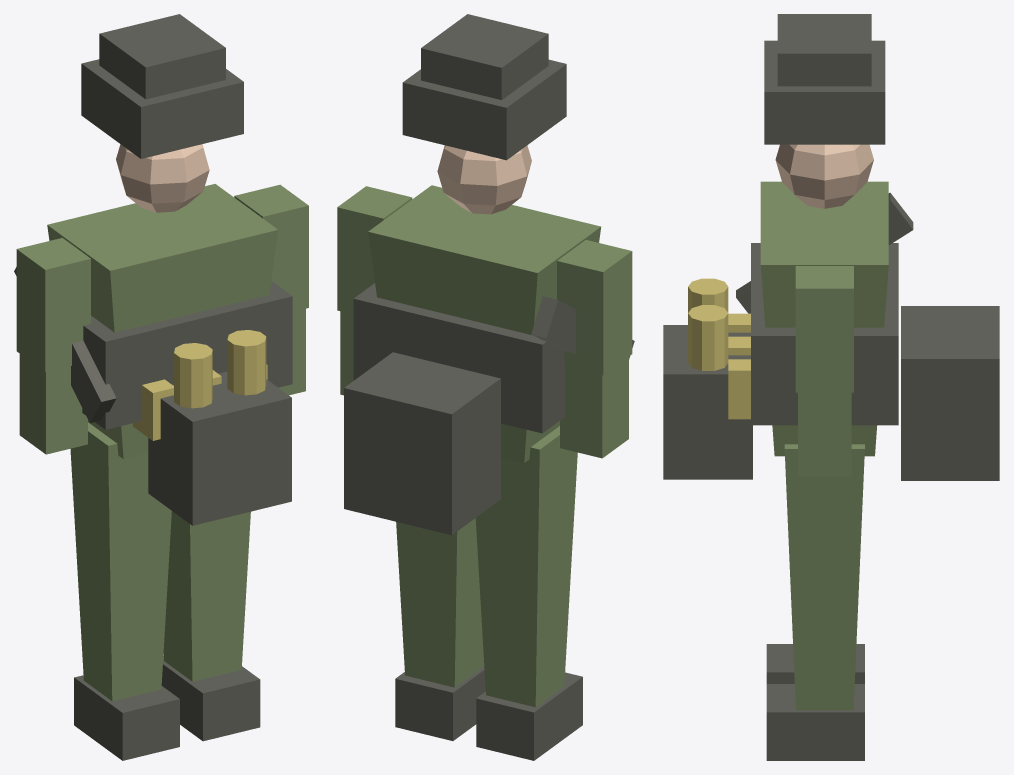
Rendered from unit_grenadier_rigged.glb.
The picture shows the model from 3 angles, left to right: view 1: azimuth 30°, elevation 25°; view 2: azimuth 150°, elevation 25°; view 3: azimuth 270°, elevation 25°; orthographic projection.
Parts seen in each view (by area): view 1: accent_torso, body_torso, body_leg-right, accent_head, body_leg-left, body_arm-right, trim_torso, accent_leg-right, accent_leg-left, body_elbow-right, skin_head, body_arm-left (+1 smaller); view 2: accent_torso, body_torso, body_leg-right, accent_head, body_leg-left, body_arm-right, accent_leg-right, body_elbow-right, skin_head, accent_leg-left, body_arm-left, body_elbow-left; view 3: accent_torso, body_leg-left, accent_head, body_torso, body_arm-left, accent_leg-left, trim_torso, skin_head, body_elbow-left, accent_leg-right.
Boxes of the visible parts, x1,y1,x2,y2 form: accent_torso: (14,267,292,525); body_torso: (47,184,278,459); body_leg-right: (70,422,171,701); accent_head: (81,14,243,158); body_leg-left: (163,511,250,681); body_arm-right: (16,238,90,372); trim_torso: (133,330,267,440); accent_leg-right: (74,675,179,760); accent_leg-left: (161,656,260,741); body_elbow-right: (19,354,87,454); skin_head: (116,144,209,212); body_arm-left: (234,184,308,311); accent_torso: (344,283,634,535); body_torso: (368,185,601,462); body_leg-right: (475,426,577,707); accent_head: (402,14,566,160); body_leg-left: (396,518,483,687); body_arm-right: (557,240,632,375); accent_leg-right: (476,672,582,760); body_elbow-right: (560,357,628,458); skin_head: (437,145,531,214); accent_leg-left: (395,659,485,740); body_arm-left: (337,186,412,314); body_elbow-left: (340,311,353,395); accent_torso: (663,192,999,480); body_leg-left: (784,444,864,710); accent_head: (764,14,885,144); body_torso: (760,181,888,456); body_arm-left: (795,266,853,392); accent_leg-left: (766,684,864,760); trim_torso: (688,278,750,419); skin_head: (775,144,873,208); body_elbow-left: (798,392,851,476); accent_leg-right: (766,644,864,683).
Bounding box in the file's own units: 1.2 × 2.97 × 1.31.
